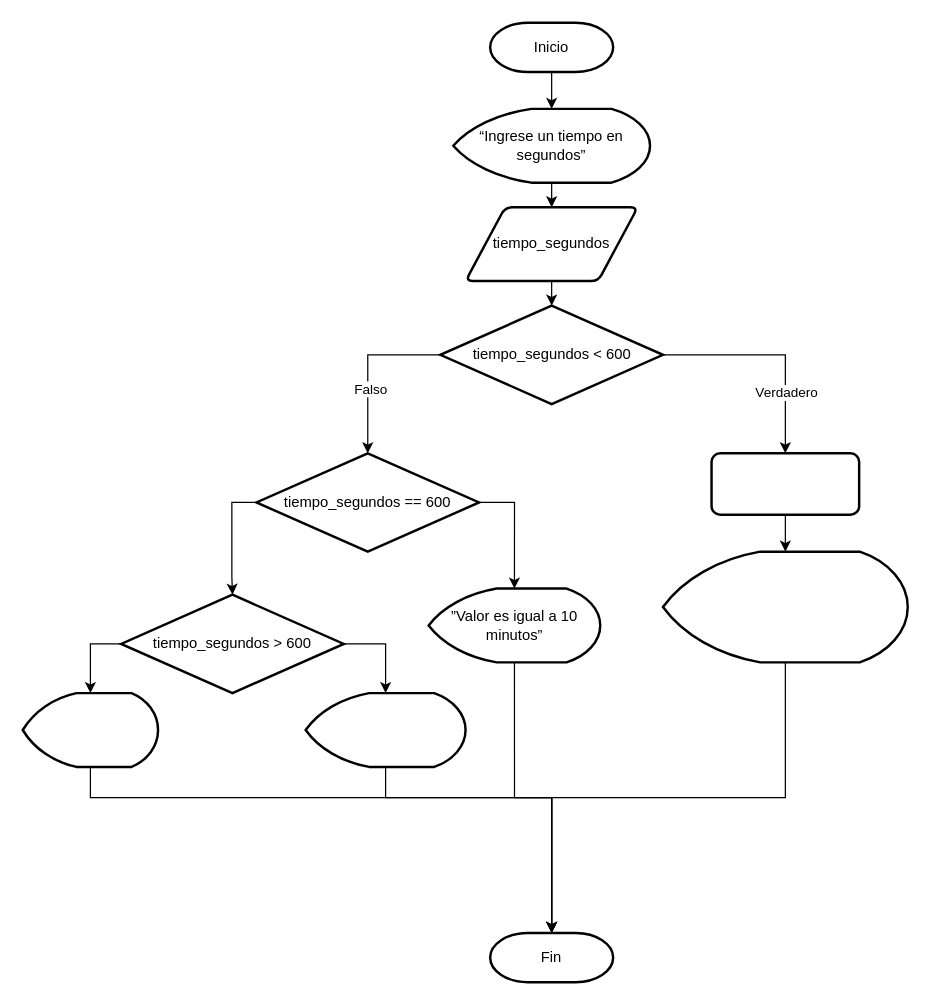
Some shapes in this 930 by 1004 pixel diagram are drawn without their labels. The box of each missing label's shape, as (x1, y1, x2, y2) in pixels:
tiempo_faltante = 600 -tiempo_segundos: (710, 451, 860, 515)
“Error, valor no valido”: (21, 691, 159, 768)
“Es mayor a 10 minutos”: (304, 691, 466, 768)
“Es menor y faltan ” +tiempo_faltante + “ segundos para ser 10 minutos”: (661, 550, 908, 663)
